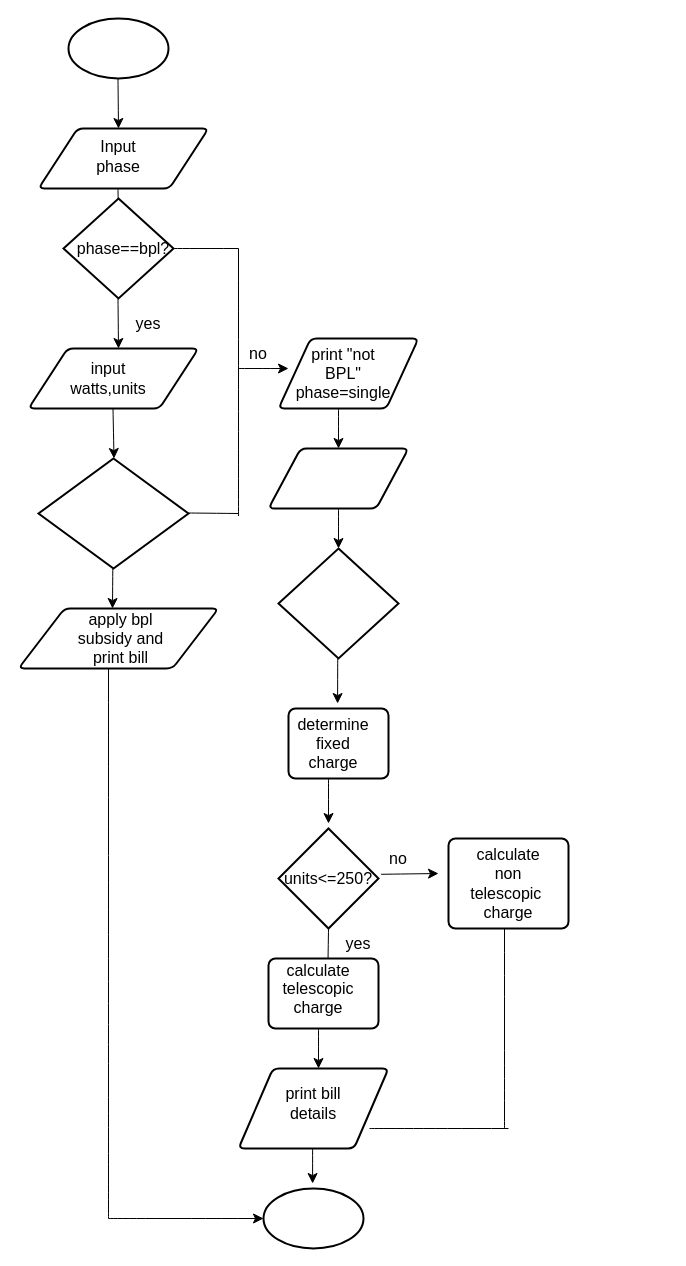
This 686x1266 diagram has some shape labels left out. The centre of each missing label's shape, as x and y in pixels:
"input units" belongs at pixel 338 478.
"phase=single or three" belongs at pixel 338 603.
"START" belongs at pixel 118 48.
"stop" belongs at pixel 313 1218.
"watts<=1000 AND units<50" belongs at pixel 113 513.
